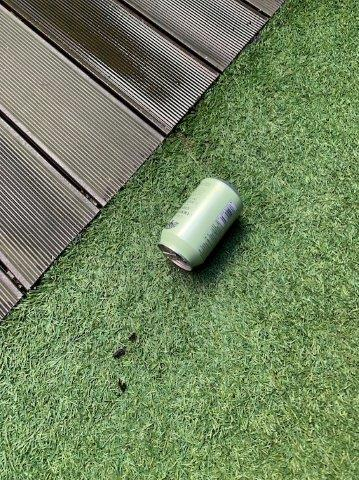kaleng: (156, 176, 244, 272)
